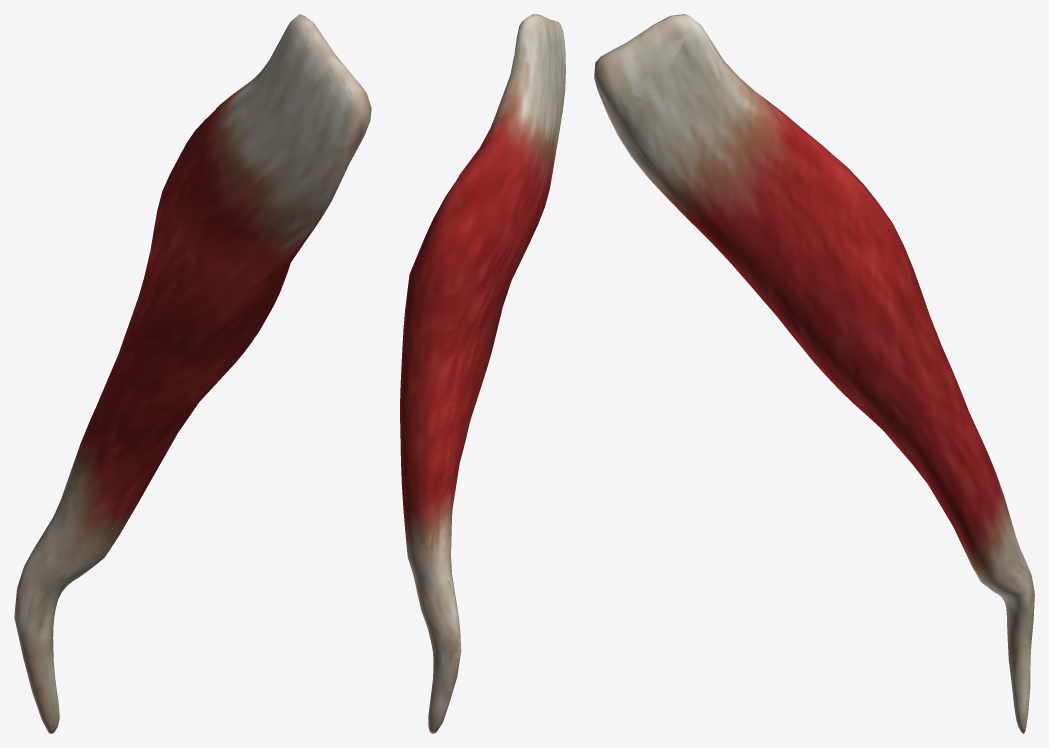
File: R Triceps brachii caput longum.fbx
The picture shows the model from 3 angles, left to right: view 1: azimuth 30°, elevation 25°; view 2: azimuth 150°, elevation 25°; view 3: azimuth 270°, elevation 25°; orthographic projection. The views are drawn at different scales.
Visible parts, largest first — view 1: R Triceps brachii caput longum, R Triceps brachii caput longum low, R Triceps brachii caput longum high; view 2: R Triceps brachii caput longum, R Triceps brachii caput longum low, R Triceps brachii caput longum high; view 3: R Triceps brachii caput longum, R Triceps brachii caput longum low, R Triceps brachii caput longum high.
Part boxes in pixels (<box>): R Triceps brachii caput longum: <box>14,14,371,733</box>; R Triceps brachii caput longum low: <box>14,15,370,726</box>; R Triceps brachii caput longum high: <box>21,19,366,731</box>; R Triceps brachii caput longum: <box>400,14,565,733</box>; R Triceps brachii caput longum low: <box>403,16,564,729</box>; R Triceps brachii caput longum high: <box>400,15,564,731</box>; R Triceps brachii caput longum: <box>594,14,1034,733</box>; R Triceps brachii caput longum low: <box>596,14,1033,730</box>; R Triceps brachii caput longum high: <box>603,15,1033,727</box>.
Size of the model in its own units: 1.54 by 7.96 by 4.28.
